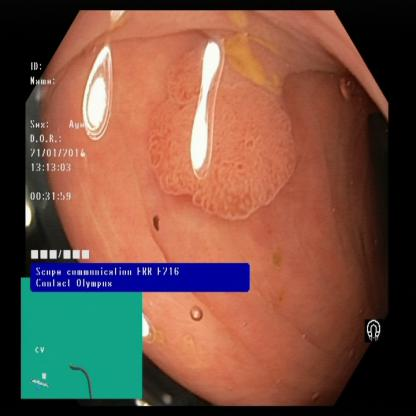Labels: (20, 280, 142, 401), (25, 59, 97, 260), (30, 260, 249, 292), (361, 310, 387, 346)
Polyps: (152, 69, 318, 222)
